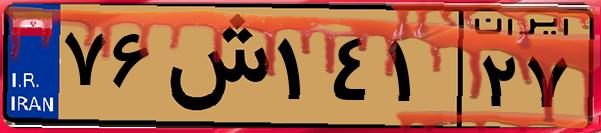1: (270, 28, 330, 110), (385, 28, 445, 110)
2: (475, 38, 525, 113)
4: (330, 28, 385, 110)
6: (110, 28, 158, 98)
7: (57, 26, 110, 100), (525, 38, 570, 115)
ش: (158, 12, 270, 120)
